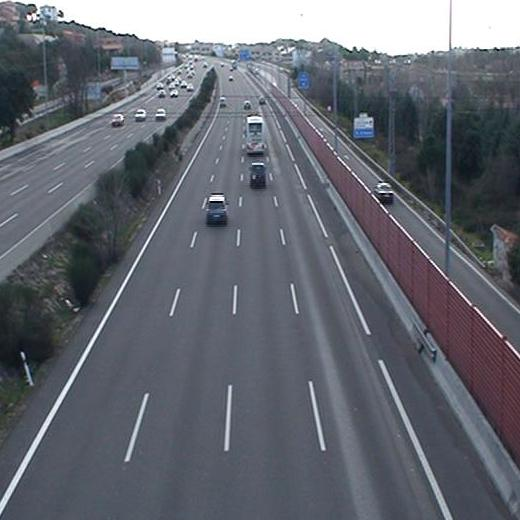bus: (242, 113, 268, 153)
car: (205, 192, 229, 222), (248, 163, 269, 186)
